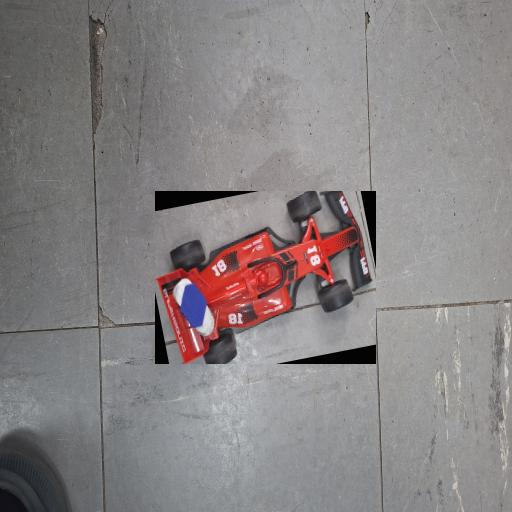carro: (155, 191, 376, 364)
